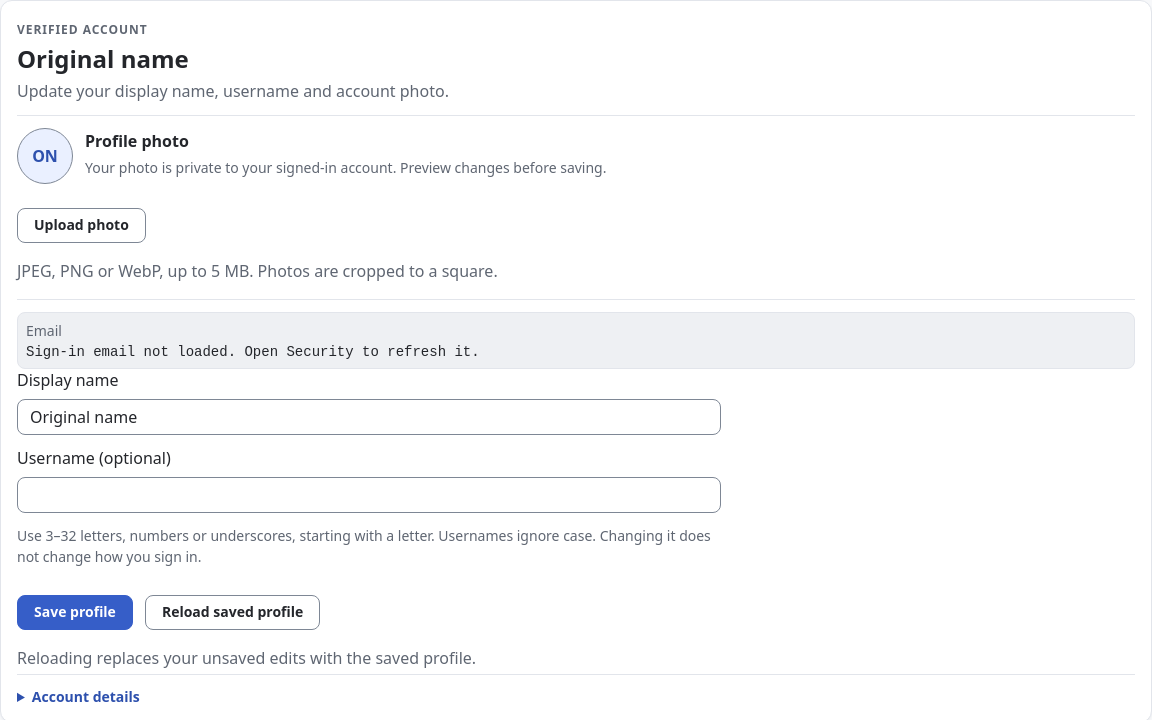
verified account profile form › keeps unsaved edits after a stale save and reloads only on explicit request
This screenshot has width=1152, height=720.
Step 1. Replace the text in the field labelled "Display name" with "My unsaved name" → (369, 417), box [17,399,721,435]
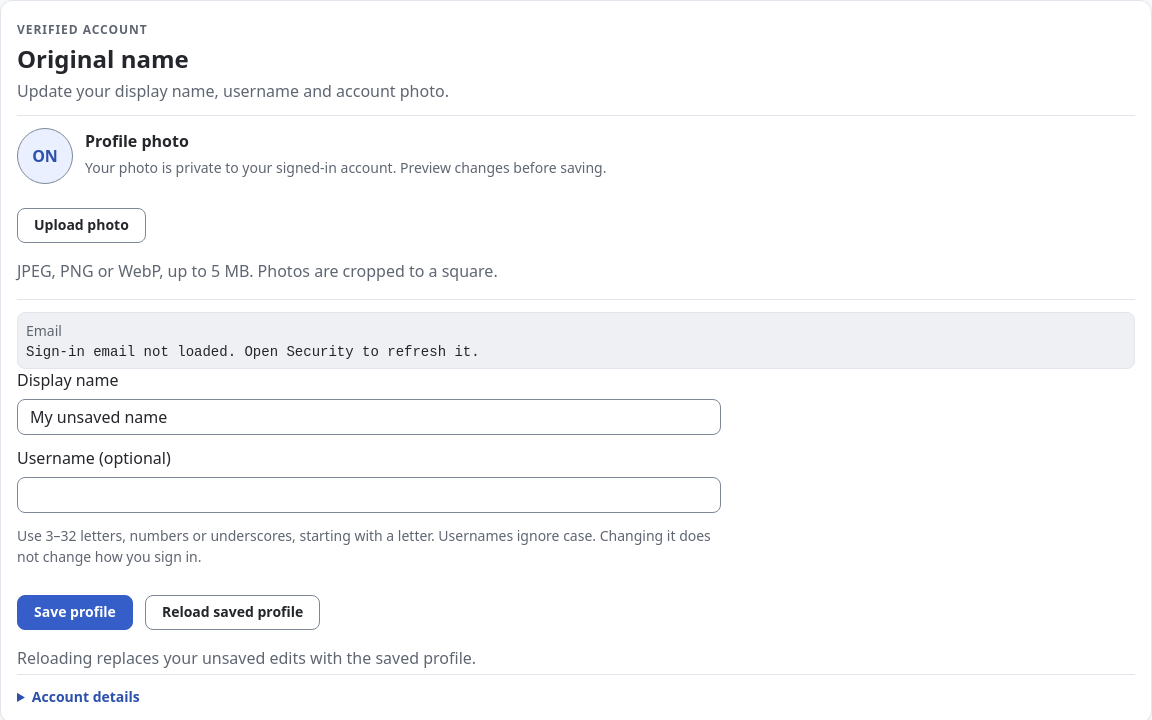
Step 2. Click the button "Save profile" → click(75, 613), box [17,595,133,630]
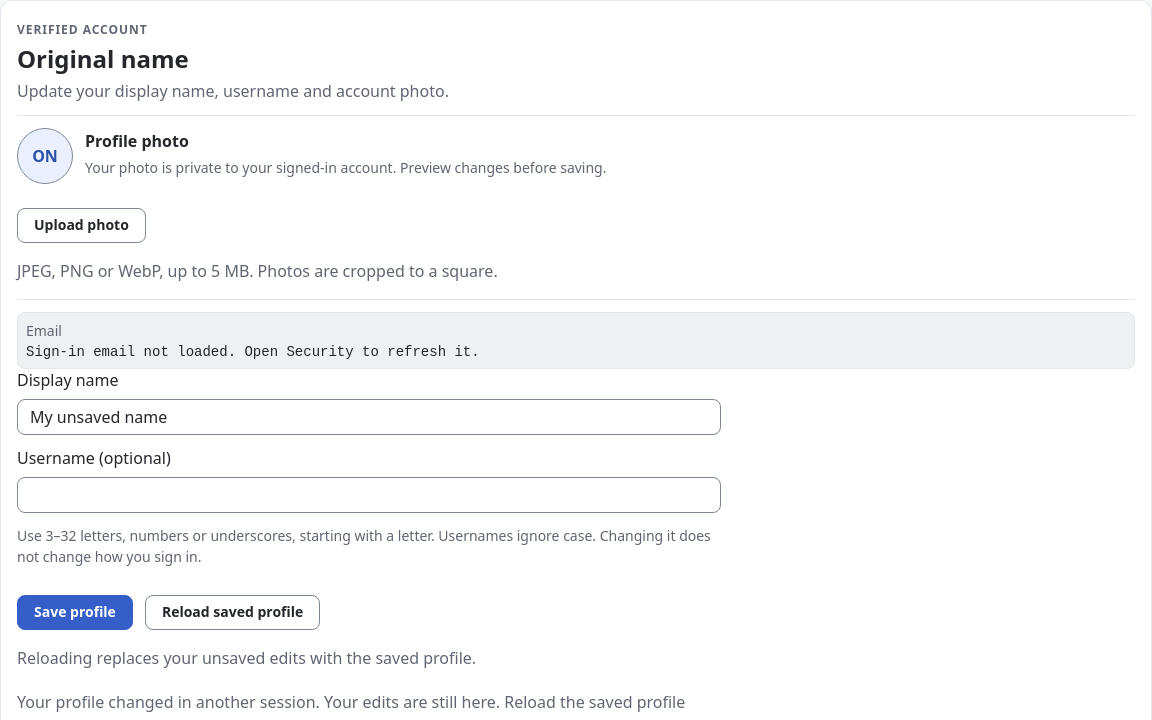
Step 3. Click the button "Reload saved profile" → click(233, 613), box [145,595,320,630]
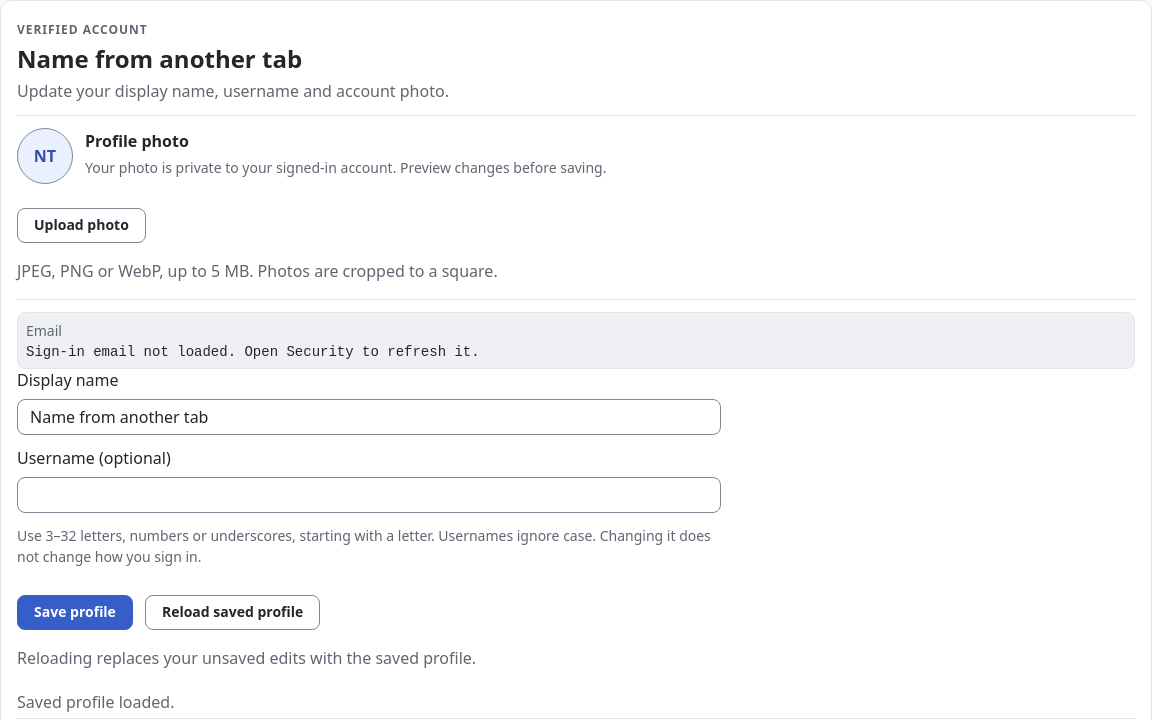
expect the text "Saved profile loaded." is shown: met, box [17,691,174,713]
expect the heading "Name from another tab" is shown: met, box [17,42,302,75]
expect the field labelled "Display name" holds "Name from another tab": met, box [17,399,721,435]
